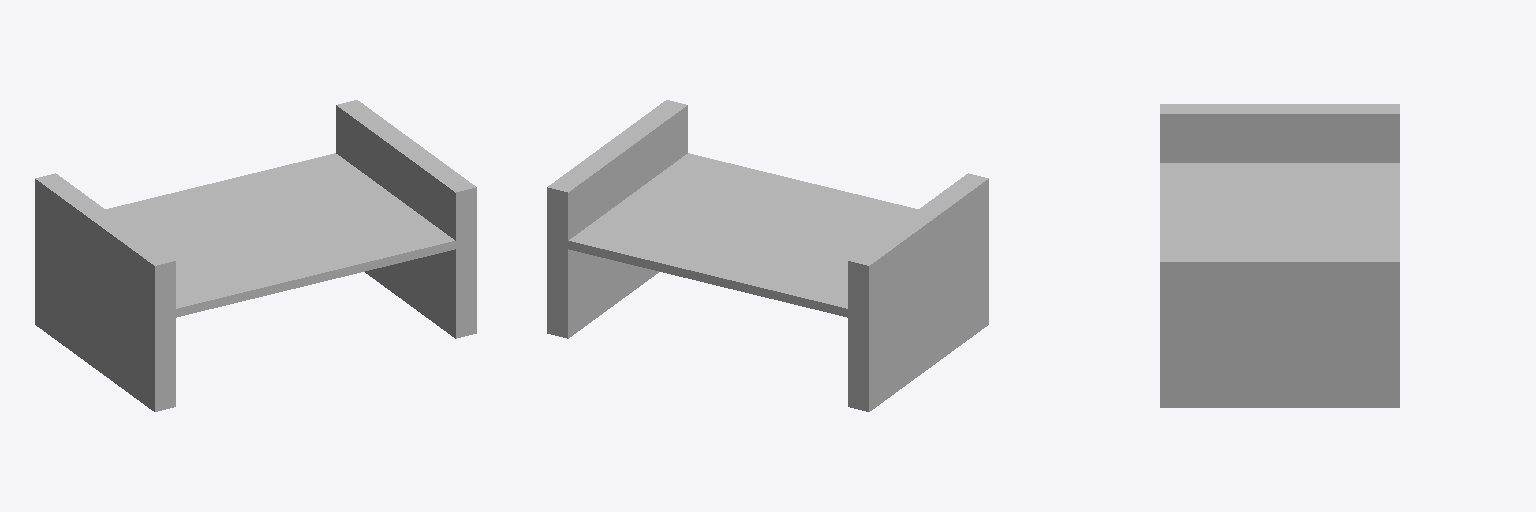
Rendered from glide.obj.
The picture shows the model from 3 angles: view 1: azimuth 30°, elevation 25°; view 2: azimuth 150°, elevation 25°; view 3: azimuth 270°, elevation 25°; orthographic projection.
Parts seen in each view (by area): view 1: Cube; view 2: Cube; view 3: Cube.
Part boxes in pixels (x1,y1,x2,y2): Cube: (35, 100, 476, 411); Cube: (547, 100, 988, 411); Cube: (1160, 104, 1399, 407).
Bounding box in the file's own units: 4.59 × 1.99 × 2.95.